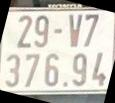-: (54, 28, 63, 35)
.: (63, 81, 69, 88)
2: (18, 16, 32, 49)
3: (5, 54, 21, 89)
4: (91, 52, 106, 88)
6: (43, 54, 61, 88)
7: (24, 53, 42, 88), (85, 14, 100, 47)
9: (72, 52, 88, 87), (33, 15, 49, 48)
V: (68, 14, 82, 47)
